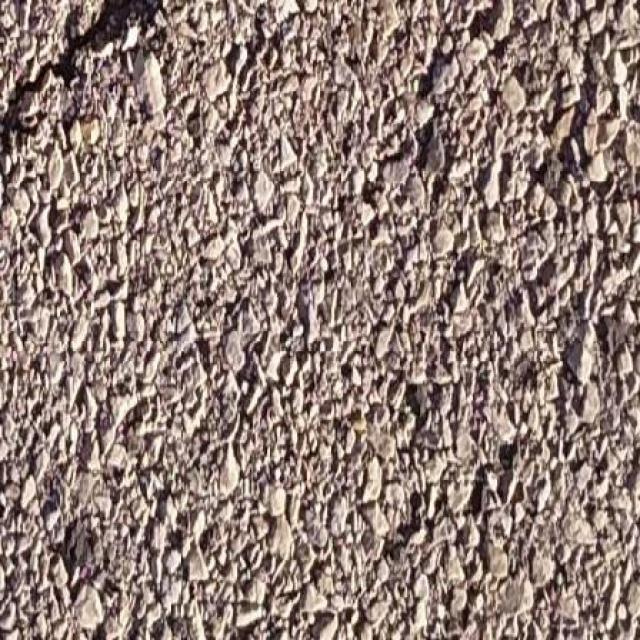diagonal crack: (8, 3, 181, 170)
